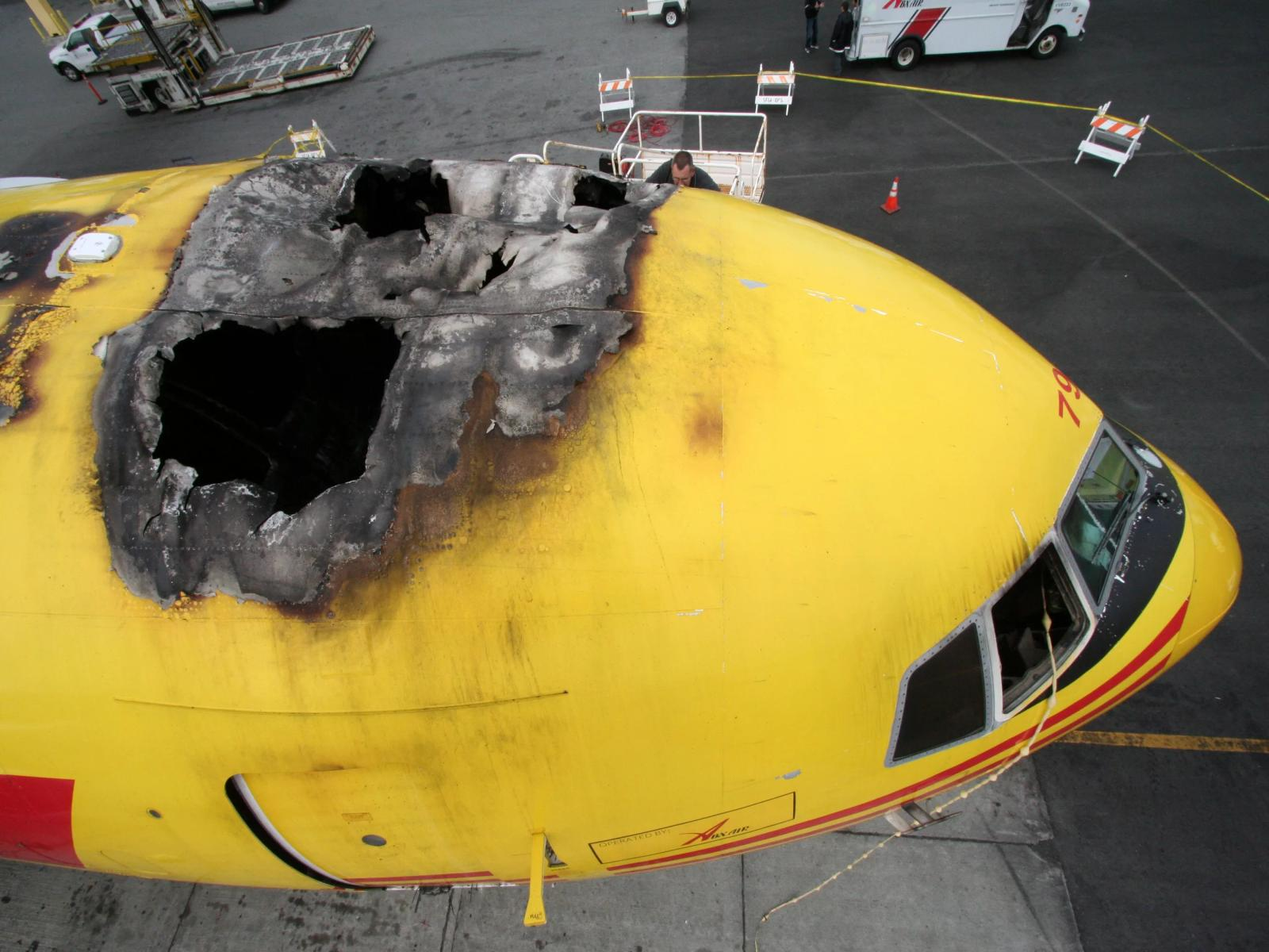Fuselage_damage: (157, 318, 398, 513), (336, 165, 450, 238), (573, 174, 626, 210)
